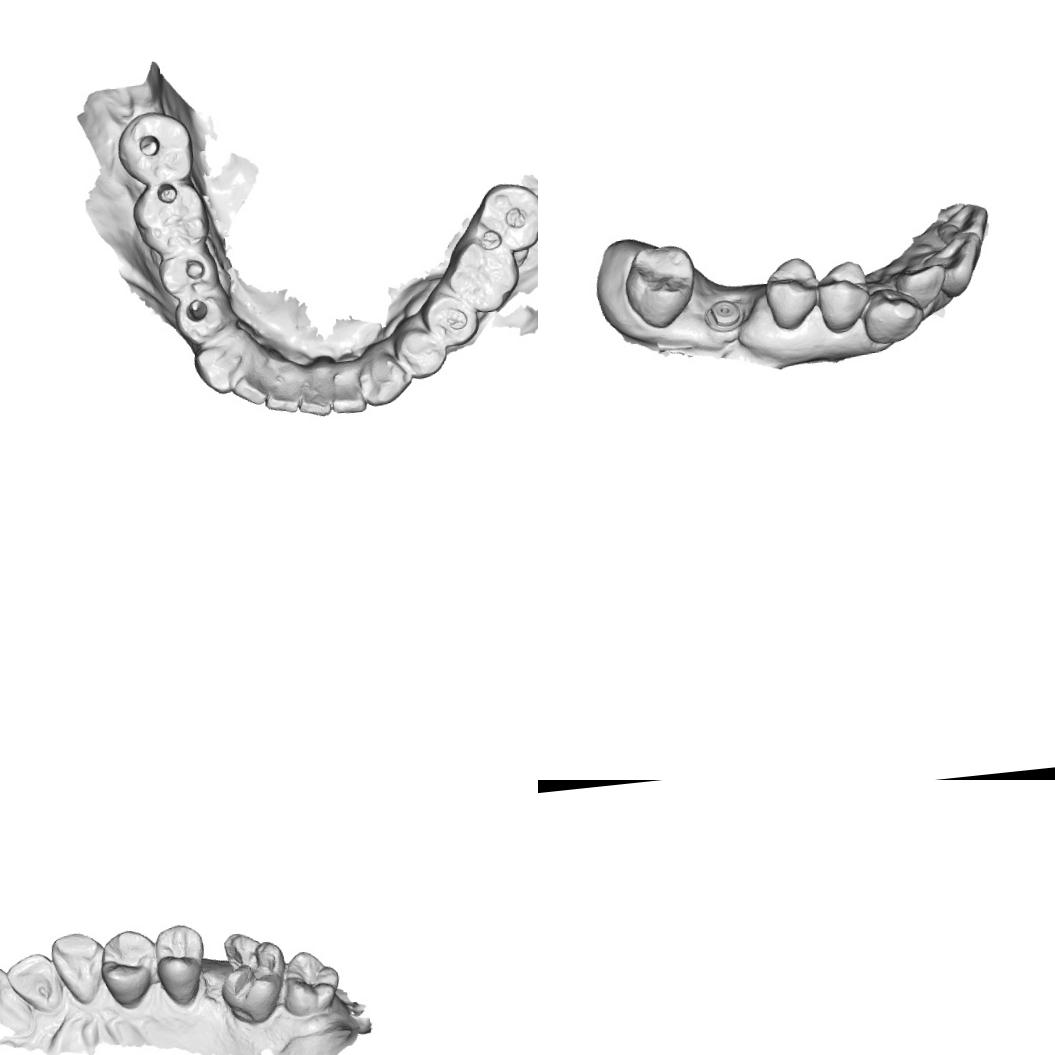canine: (48, 926, 114, 1014), (189, 334, 260, 398), (858, 282, 927, 347), (354, 342, 413, 410)
implant: (701, 294, 747, 338)
incisor: (4, 949, 68, 1027), (921, 229, 987, 300), (886, 260, 952, 318), (255, 350, 306, 418), (290, 352, 337, 424), (324, 348, 372, 418), (0, 964, 35, 1053), (229, 352, 278, 408), (940, 200, 992, 250)
molar: (126, 176, 219, 260), (617, 239, 700, 333), (213, 926, 288, 1026), (438, 232, 524, 318), (113, 106, 198, 188), (466, 178, 538, 258), (277, 947, 346, 1025)
premolar: (96, 926, 161, 1016), (761, 253, 823, 334), (812, 255, 872, 337), (152, 922, 209, 1006), (170, 280, 242, 344), (388, 313, 450, 383), (417, 288, 482, 352), (154, 243, 224, 302)
